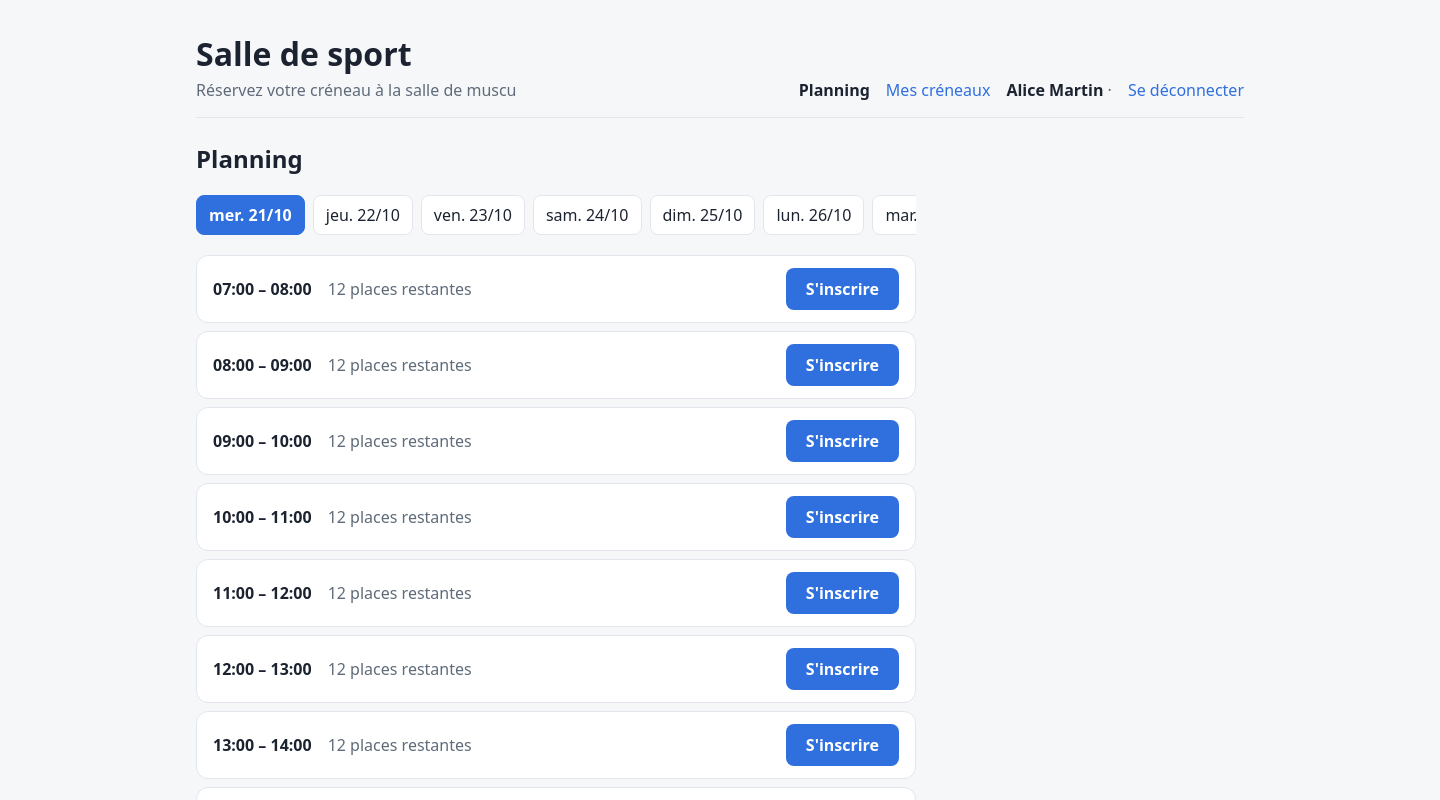
Test: PlanningPage, the slots › shows the slots of another day on a click on its tab
Expected: the text "07:00 – 08:00" is shown, x1=213 y1=278 x2=312 y2=300
Expected: the text "4 places restantes" is not shown
Click the button "jeu. 22/10": point(363, 215) x1=313 y1=195 x2=413 y2=235
(page scrolled)
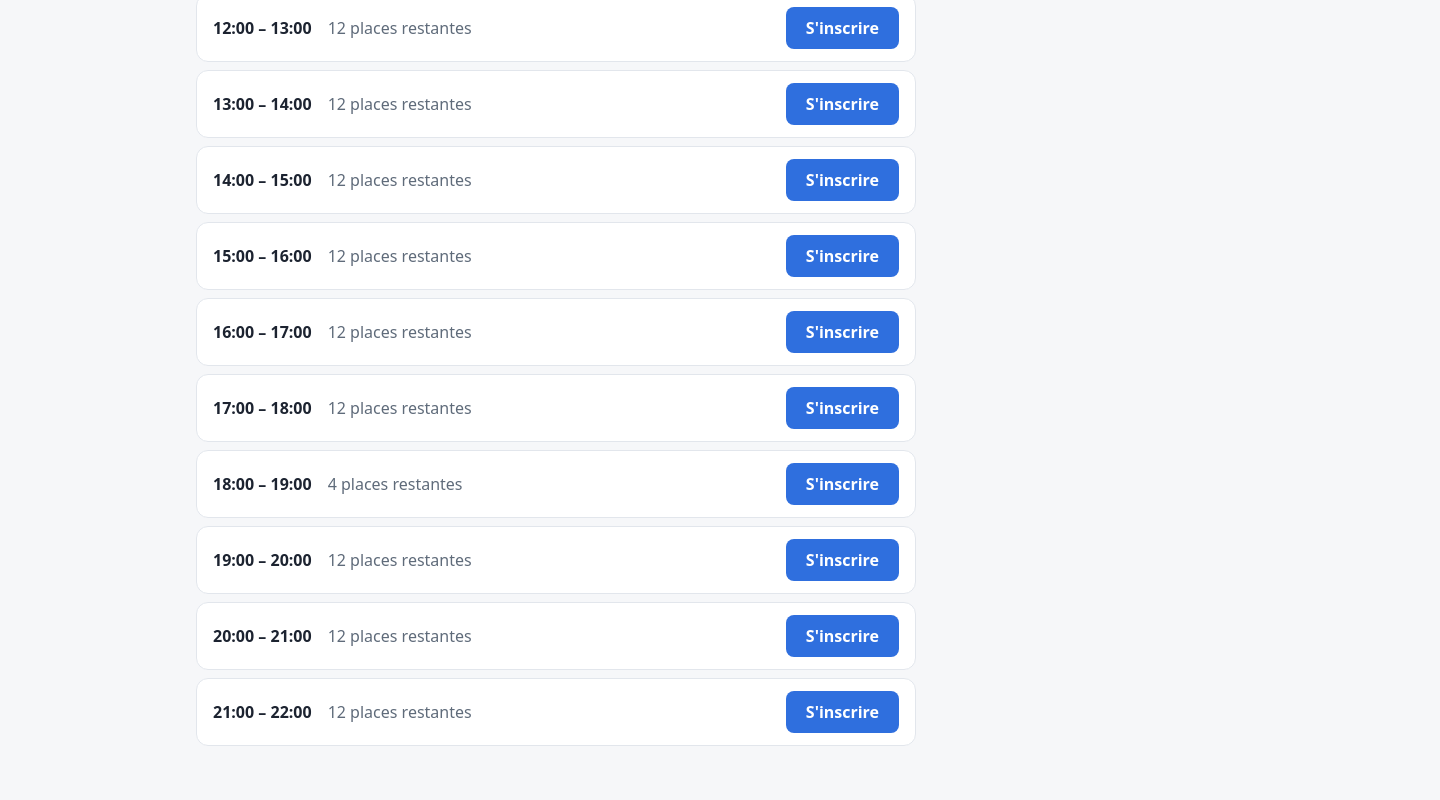
Expected: the text "4 places restantes" is shown, x1=328 y1=473 x2=463 y2=495
